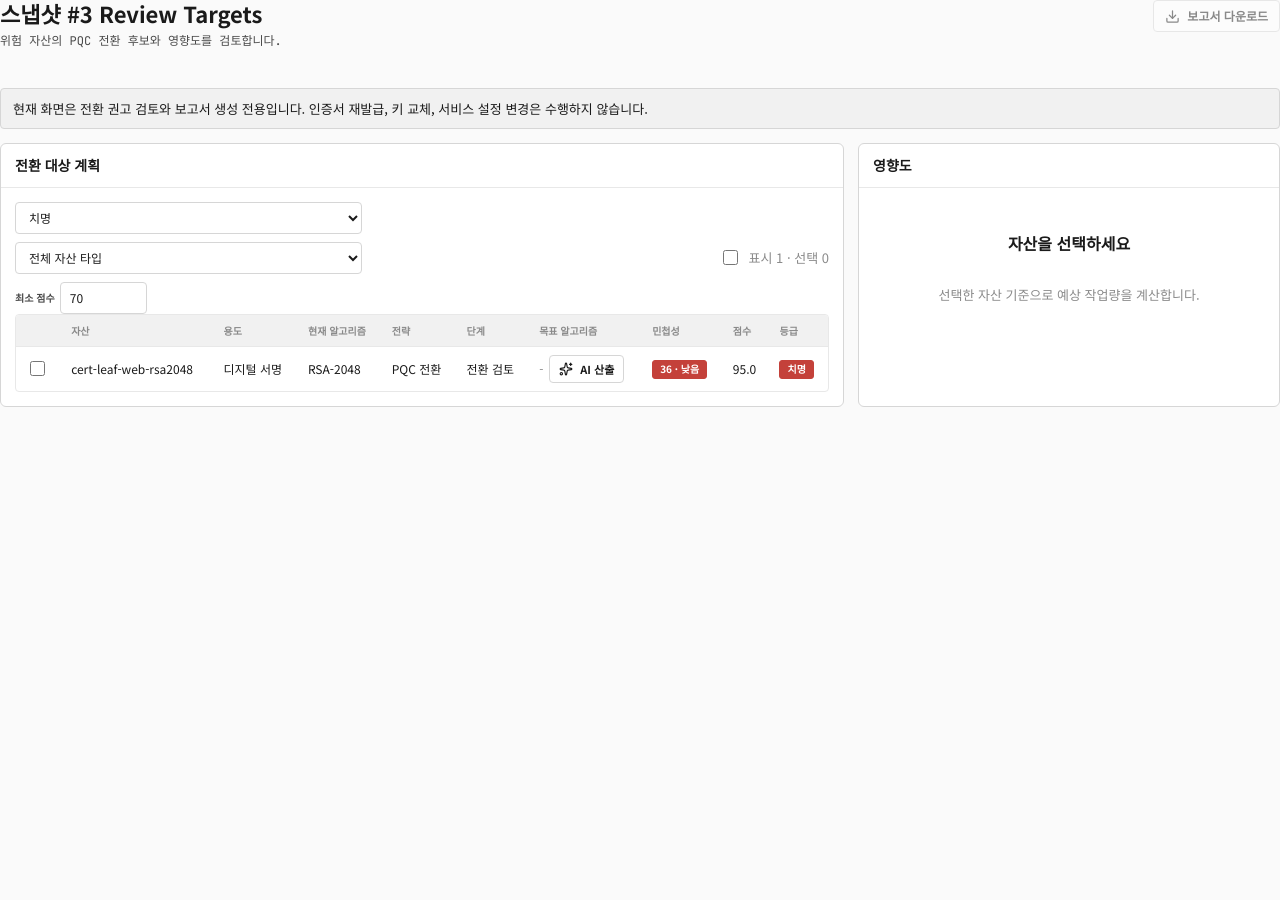
it: MigrationPlanView › renders crypto agility and playbook data from migration recommendations
Expected: the heading "스냅샷 #3 Review Targets" is shown, 0,0 -> 282,28
Expected: the text "현재 화면은 전환 권고 검토와 보고서 생성 전용입니다. 인증서 재발급, 키 교체, 서비스 설정 변경은 수행하지 않습니다." is shown, 0,88 -> 1279,129
Click the checkbox named "cert-leaf-web-rsa2048 선택": coordinates (38, 368) 30,361 -> 45,376
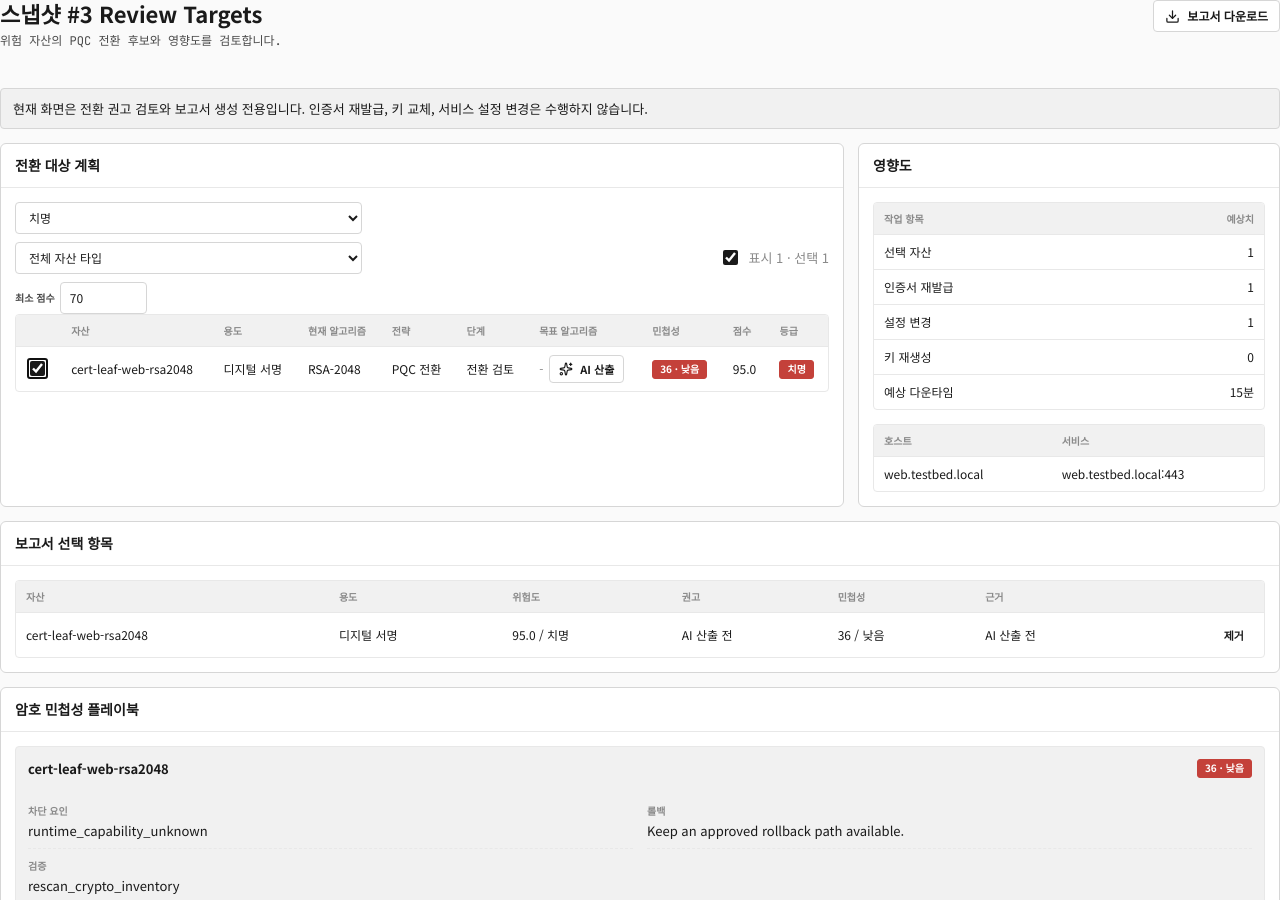
Now the heading "암호 민첩성 플레이북" is shown, box 15,700 -> 139,719
Now the column heading "작업 항목" is shown, box 874,203 -> 1129,234
Now the text "인증서 재발급" is shown, box 874,269 -> 1129,304
